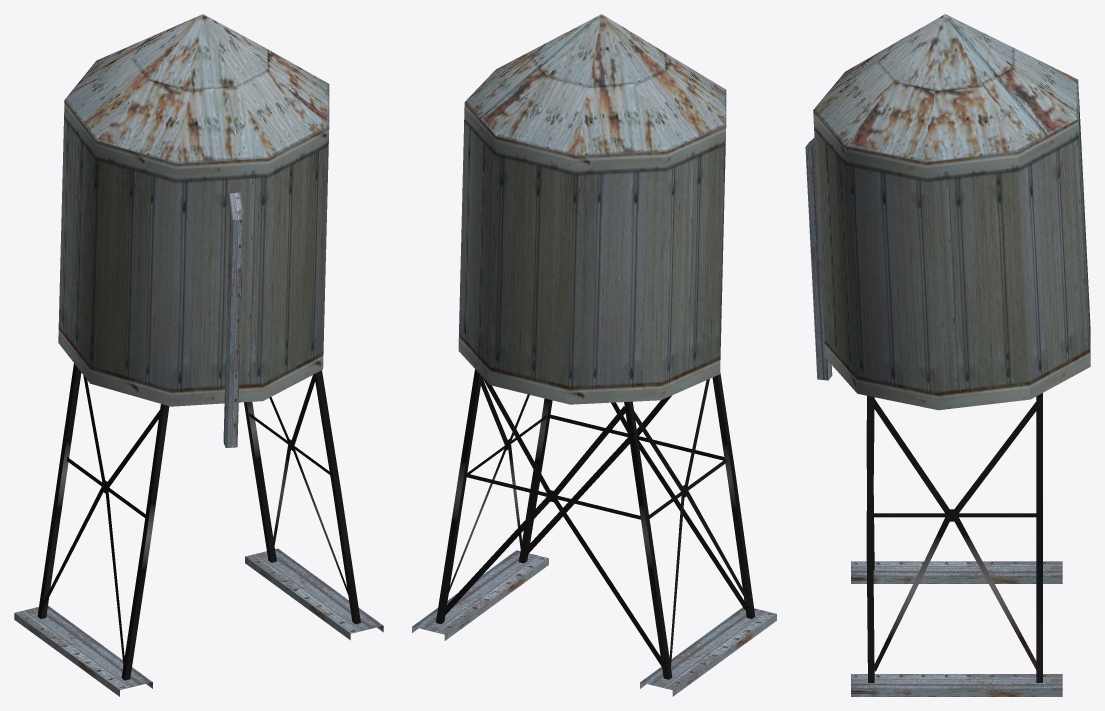
File: Waterreservoir.fbx
The picture shows the model from 3 angles, left to right: view 1: azimuth 30°, elevation 25°; view 2: azimuth 150°, elevation 25°; view 3: azimuth 270°, elevation 25°; orthographic projection.
Parts seen in each view (by area): view 1: Waterreservoir; view 2: Waterreservoir; view 3: Waterreservoir.
Boxes of the visible parts, x1,y1,x2,y2 form: Waterreservoir: [14, 14, 383, 696]; Waterreservoir: [412, 14, 776, 696]; Waterreservoir: [805, 14, 1090, 696].
Size of the model in its own units: 273 by 610 by 255.
